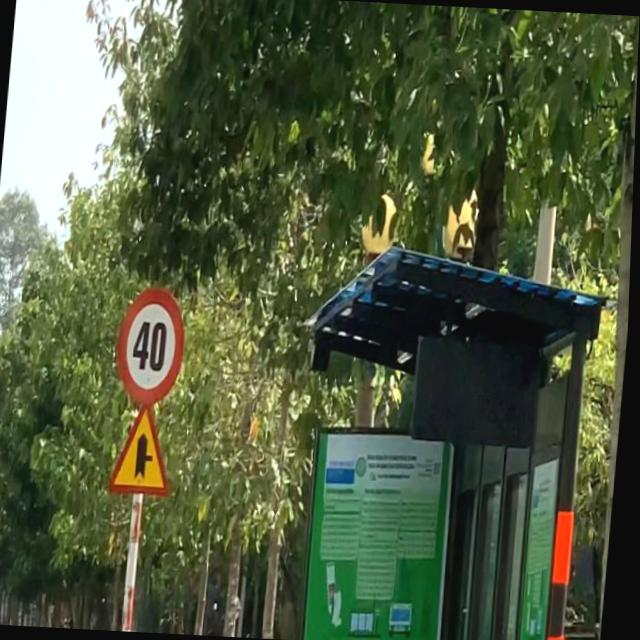Giao nhau voi duong khong uu tien ben phai: (111, 400, 181, 498)
Toc do toi da cho phep: (116, 286, 192, 406)
